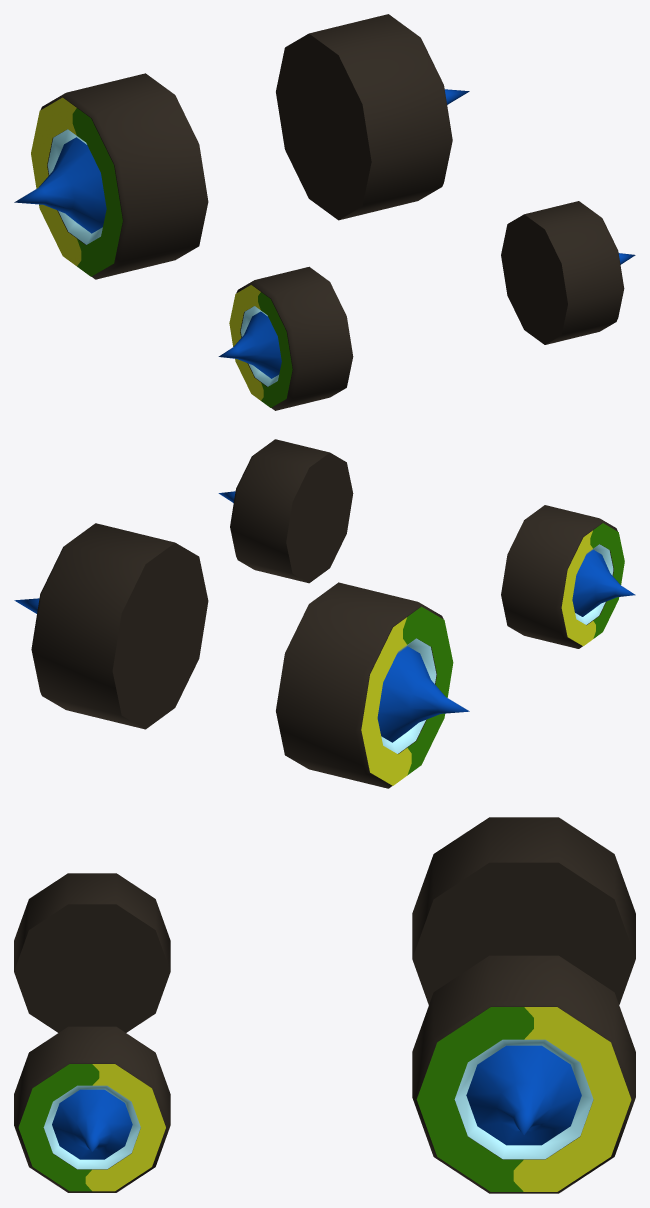
File: LuxWheel02E01.gltf
The picture shows the model from 3 angles, top to bottom: view 1: azimuth 30°, elevation 25°; view 2: azimuth 150°, elevation 25°; view 3: azimuth 270°, elevation 25°; orthographic projection. The views are drawn at different scales.
Parts seen in each view (by area): view 1: LuxWheel02E01; view 2: LuxWheel02E01; view 3: LuxWheel02E01.
Part boxes in pixels (x1=…): LuxWheel02E01: x1=14, y1=14, x2=635, y2=410; LuxWheel02E01: x1=14, y1=439, x2=635, y2=788; LuxWheel02E01: x1=14, y1=817, x2=635, y2=1193.
Bounding box in the file's own units: 0.2691 × 0.0932 × 0.2723.
1 material, 1 textured.
